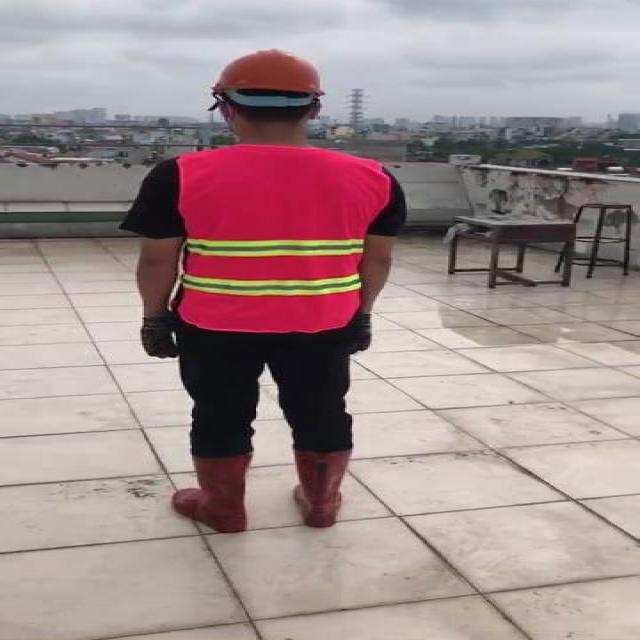boots: (170, 455, 252, 533), (292, 447, 354, 529)
hand_glove: (137, 313, 185, 360), (343, 316, 372, 354)
head_helmet: (206, 44, 331, 98)
person: (120, 41, 408, 535)
vest: (178, 147, 386, 335)
